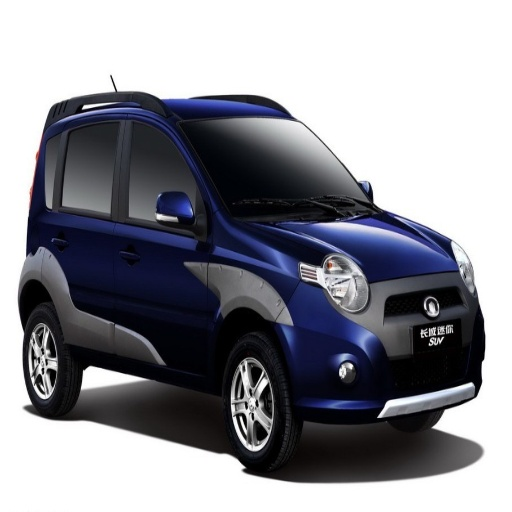front_bumper: (294, 271, 481, 422)
front_right_door: (116, 111, 212, 373)
front_right_light: (302, 254, 369, 316)
